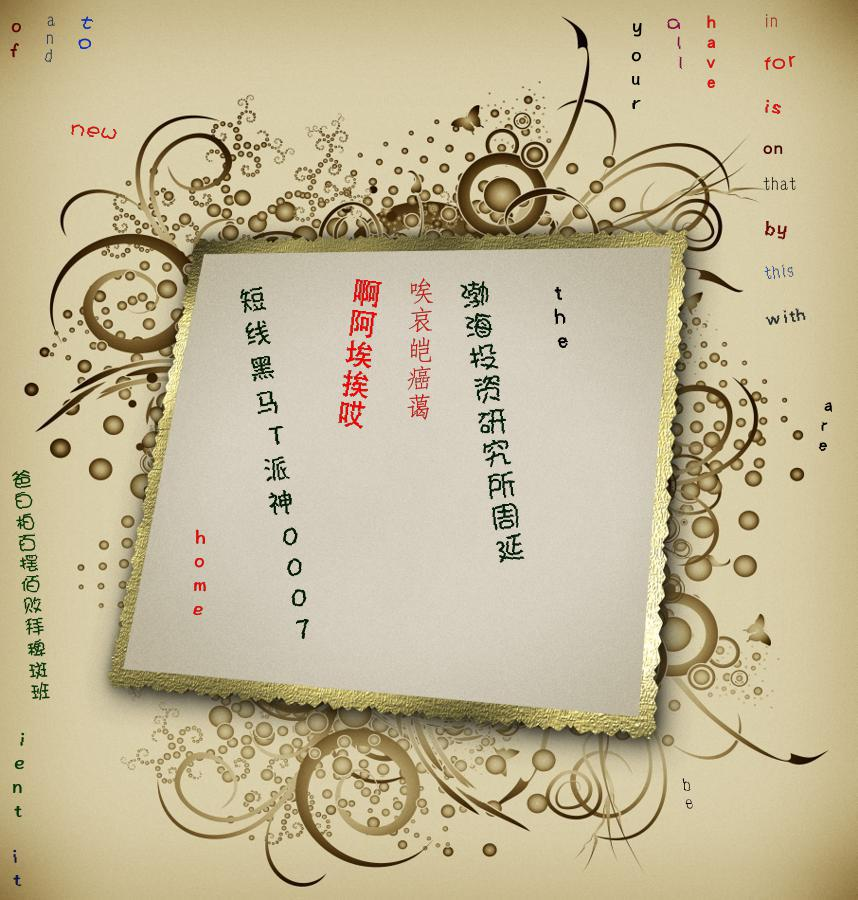h_text: (70, 116, 118, 140), (763, 302, 807, 326), (763, 212, 790, 240), (763, 50, 797, 70), (763, 261, 795, 281), (763, 175, 796, 191), (763, 91, 784, 115), (763, 136, 783, 154), (763, 11, 779, 29)
v_text: (236, 277, 314, 642), (457, 277, 528, 564), (10, 468, 52, 702), (335, 277, 384, 431), (405, 277, 436, 421), (192, 521, 210, 617), (10, 723, 27, 819), (629, 10, 644, 111), (549, 277, 570, 349), (665, 10, 685, 70), (818, 392, 835, 452), (706, 10, 716, 88), (77, 10, 95, 50), (44, 10, 56, 64), (10, 10, 23, 59), (10, 840, 22, 888), (681, 775, 695, 811)
